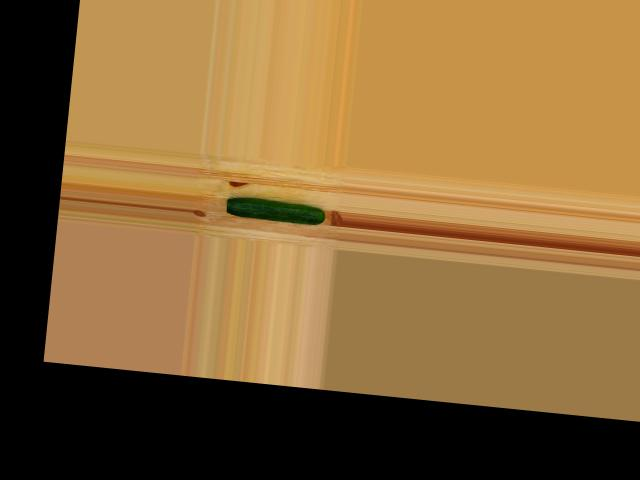cucumber: (226, 196, 326, 225)
